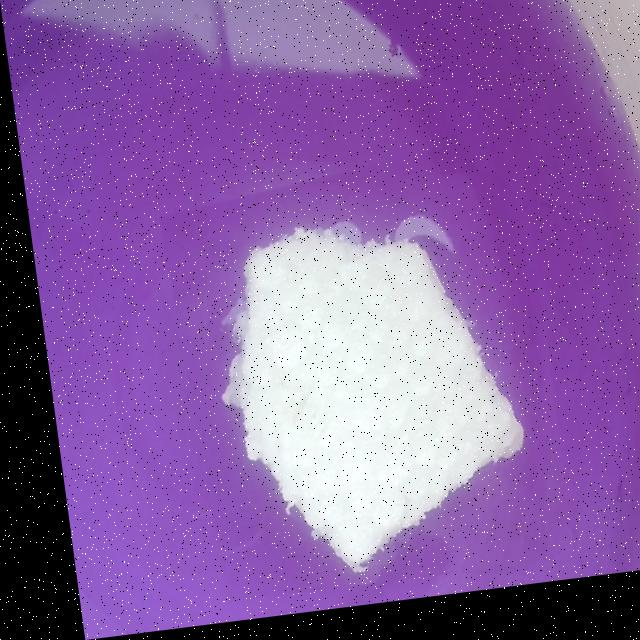litter: (148, 143, 558, 607)
